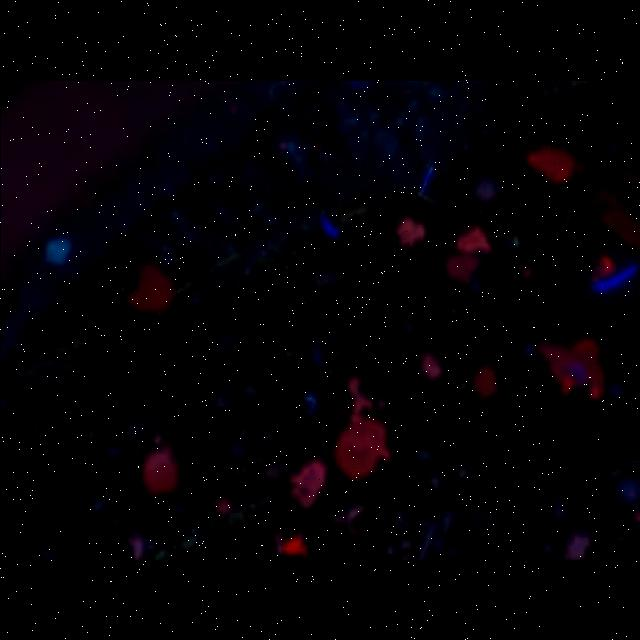Fragment: (536, 338, 604, 399), (142, 448, 180, 498)
